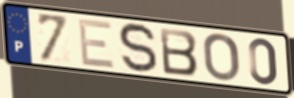0: (247, 37, 278, 87)
7: (36, 11, 71, 64)
B: (158, 26, 201, 78)
E: (76, 18, 117, 71)
O: (201, 32, 241, 83)
S: (117, 21, 160, 75)
